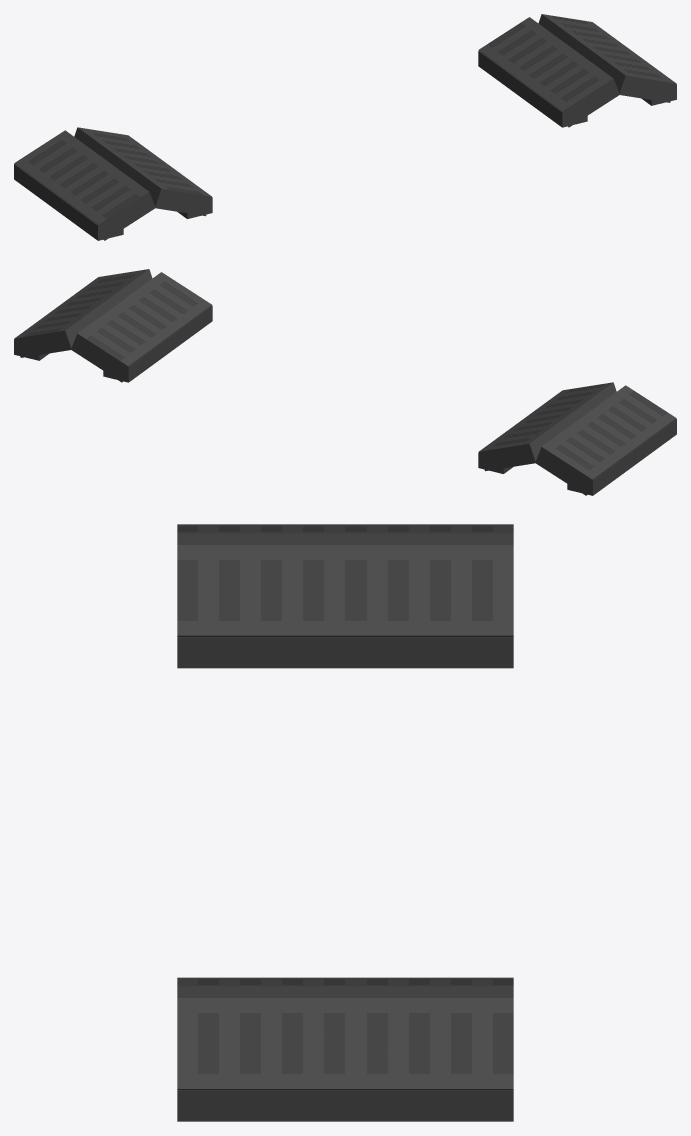
Rendered from rubbersleepers.obj.
The picture shows the model from 3 angles, top to bottom: view 1: azimuth 30°, elevation 25°; view 2: azimuth 150°, elevation 25°; view 3: azimuth 270°, elevation 25°; orthographic projection. The views are drawn at different scales.
Visible parts, largest first — view 1: cube; view 2: cube; view 3: cube.
Boxes of the visible parts, bbox=[...] form: cube: bbox=[14, 14, 676, 240]; cube: bbox=[14, 269, 676, 495]; cube: bbox=[177, 524, 513, 1121].
Bounding box in the file's own units: 1.99 × 0.1255 × 0.5.
Materials: 1 (1 with a texture image).
